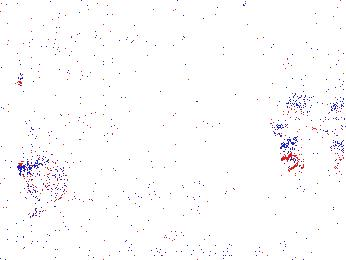flame jellyfish: (271, 93, 315, 172), (264, 65, 307, 137), (14, 158, 72, 203)
